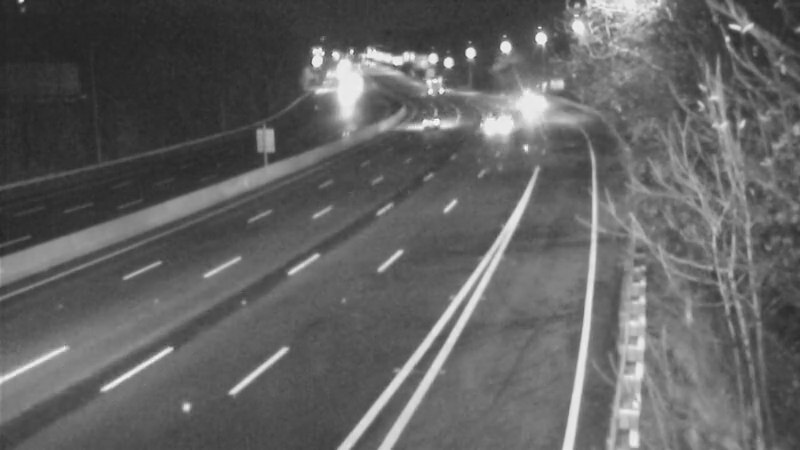vehicle: (409, 63, 459, 113), (509, 77, 559, 127), (470, 99, 520, 149), (323, 66, 373, 116)
